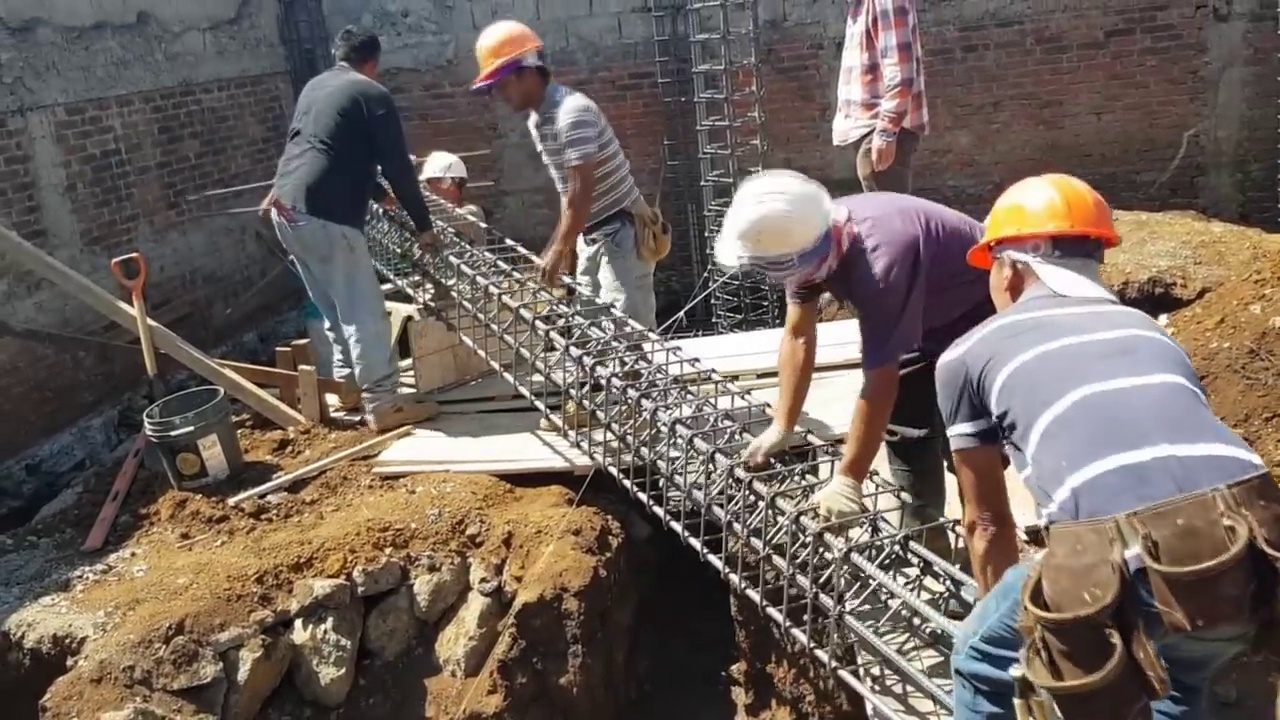helmet: (971, 174, 1130, 272), (714, 169, 837, 274), (464, 17, 551, 93), (415, 149, 467, 186)
helmet-off: (336, 23, 378, 78)
helmet-on: (971, 174, 1130, 315), (715, 162, 868, 297), (462, 19, 551, 121), (416, 144, 473, 212)
person: (946, 172, 1280, 719), (715, 165, 992, 573), (464, 22, 653, 422), (275, 11, 435, 445), (831, 0, 924, 200)
